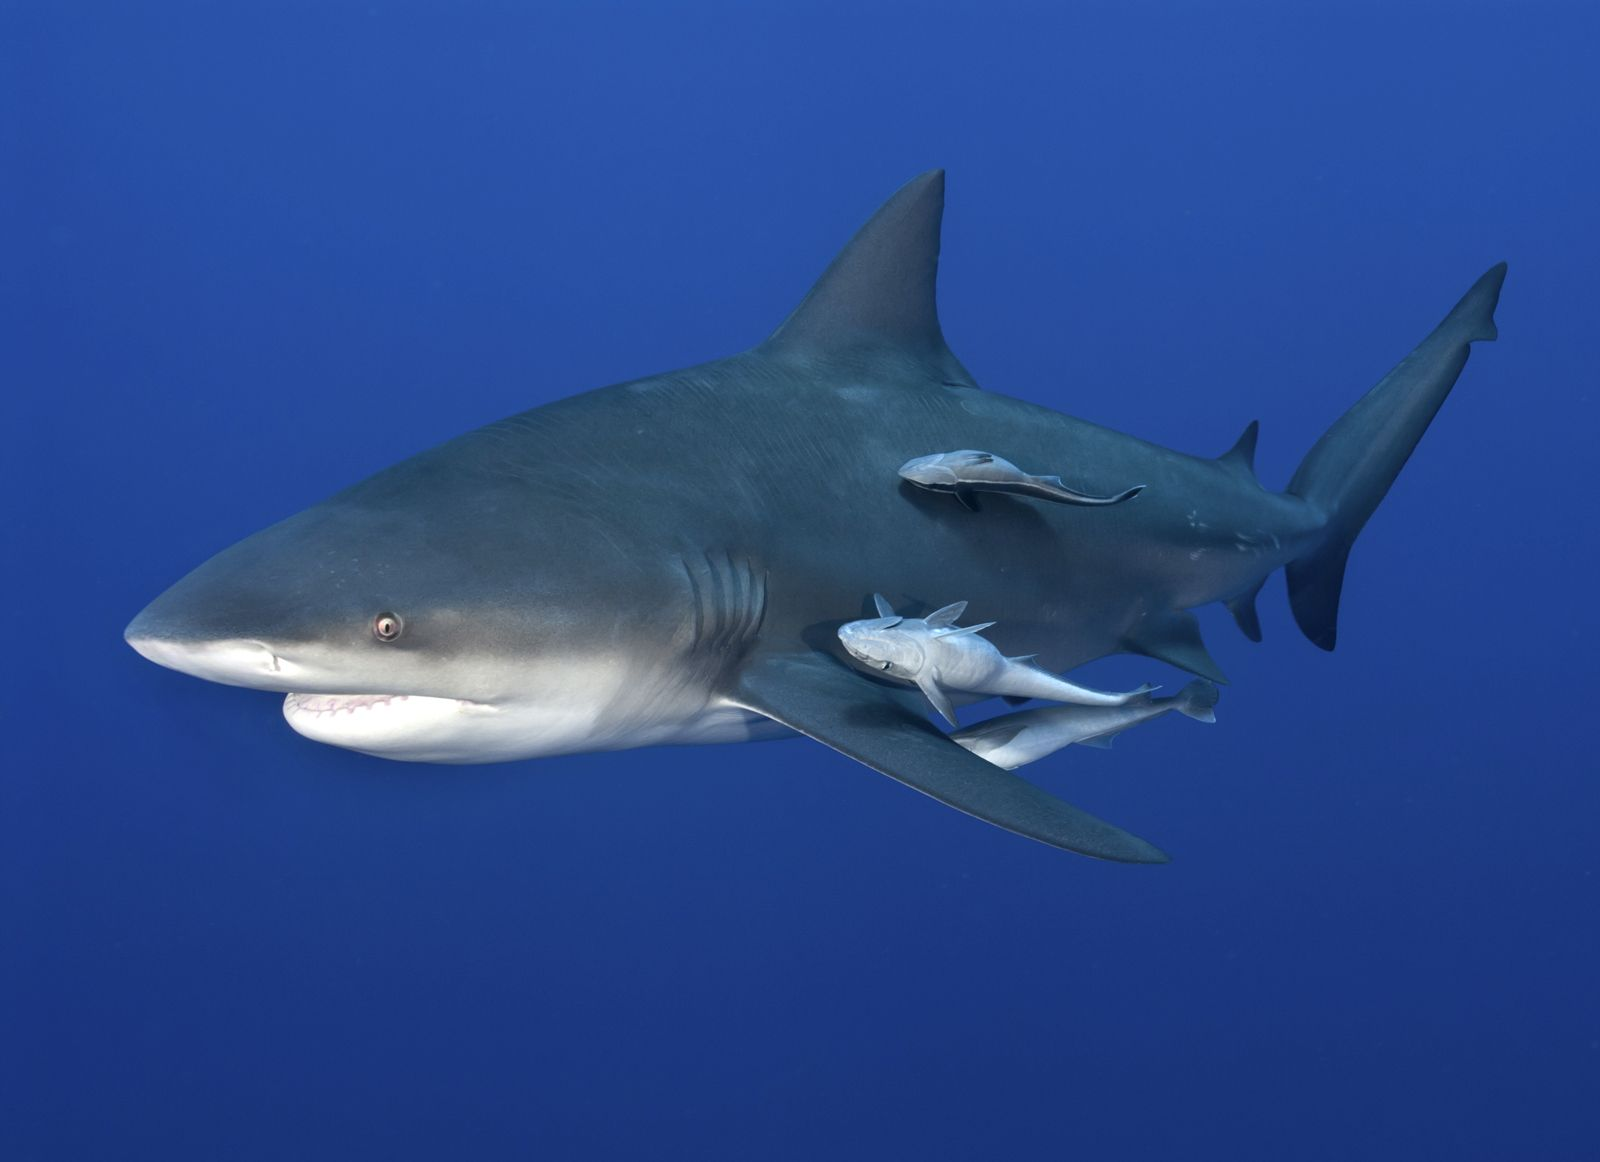Shark: (111, 169, 1501, 862)
